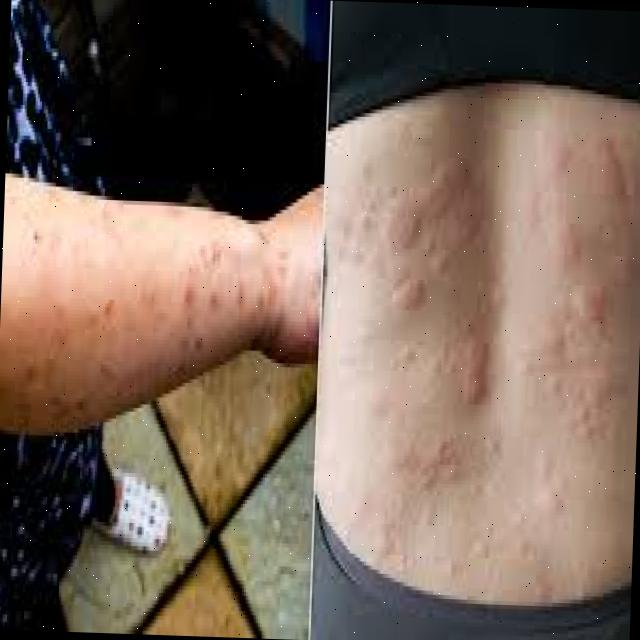kan emici bocekler: (522, 128, 638, 420), (383, 155, 479, 302), (506, 460, 574, 599), (392, 433, 469, 500), (456, 342, 502, 403)
